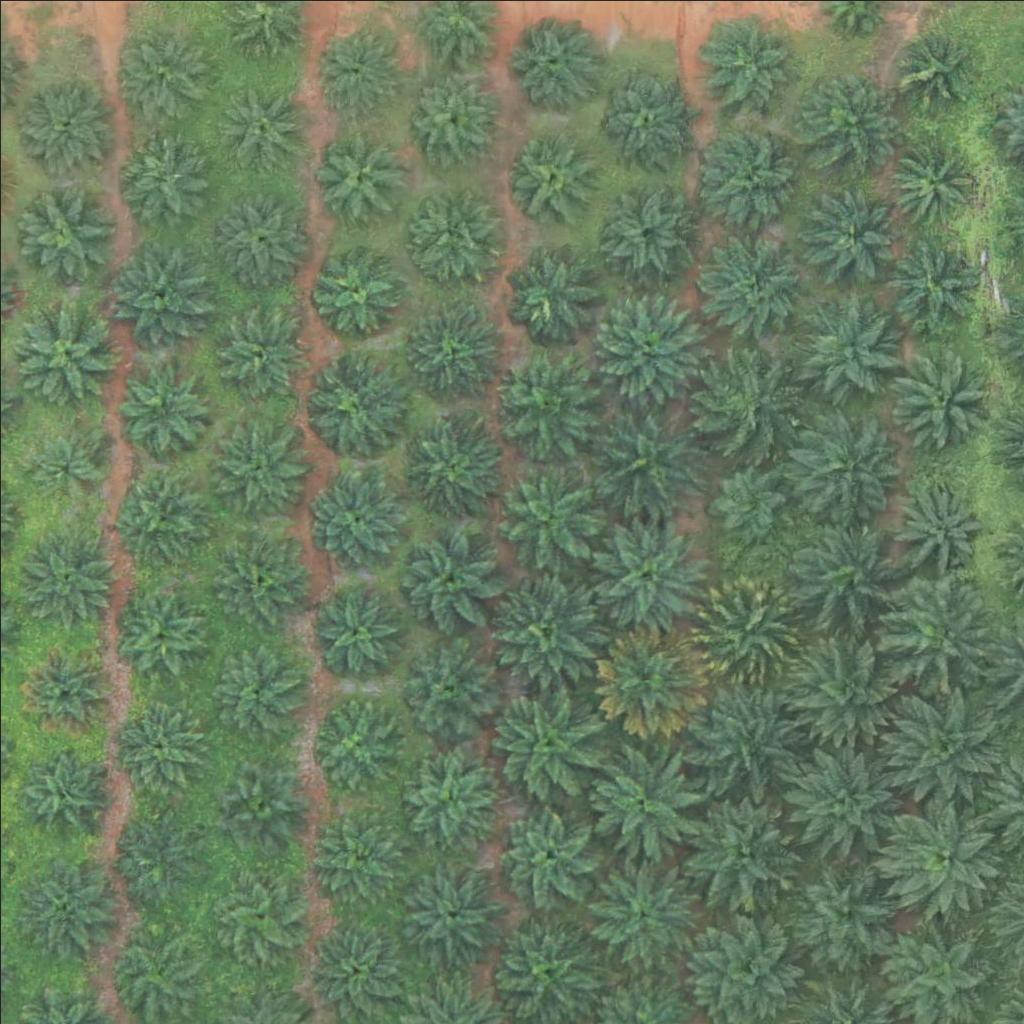Kelapa_Sawit: (591, 282, 704, 396), (784, 855, 897, 968), (681, 801, 794, 914), (682, 683, 795, 796), (390, 856, 503, 969), (489, 455, 602, 568), (593, 622, 706, 735), (691, 573, 804, 686), (591, 521, 704, 634), (594, 403, 707, 516), (885, 685, 997, 799), (791, 515, 903, 629), (787, 412, 899, 526), (882, 579, 994, 693), (886, 796, 998, 909), (783, 744, 895, 857), (585, 850, 697, 963), (588, 744, 700, 857), (485, 910, 597, 1023), (484, 686, 596, 799), (491, 573, 603, 686), (794, 629, 906, 742), (496, 802, 596, 903), (304, 807, 404, 908), (13, 851, 113, 952), (9, 300, 109, 401), (109, 580, 209, 681), (108, 464, 208, 565), (110, 240, 210, 341), (203, 644, 303, 745), (206, 527, 306, 628), (207, 418, 307, 519), (208, 301, 308, 402), (210, 185, 310, 286), (307, 467, 407, 568), (302, 354, 402, 455), (397, 636, 497, 737), (399, 527, 499, 628), (401, 411, 501, 512), (399, 301, 499, 402), (491, 357, 591, 458), (800, 296, 900, 397), (891, 347, 991, 448), (883, 235, 983, 336), (796, 68, 896, 169), (702, 123, 802, 224), (697, 13, 797, 114), (113, 27, 213, 128), (11, 179, 111, 280), (13, 75, 113, 176), (102, 806, 202, 906), (14, 527, 114, 627), (502, 246, 602, 346), (695, 353, 795, 453), (702, 232, 802, 332), (591, 65, 691, 165), (499, 14, 599, 114), (397, 68, 497, 168), (215, 876, 303, 964), (212, 757, 300, 845), (112, 701, 200, 789), (312, 243, 400, 331), (606, 185, 694, 273), (885, 135, 973, 223), (312, 130, 400, 218), (310, 24, 398, 112), (214, 84, 302, 172), (404, 751, 491, 839), (309, 927, 396, 1015), (17, 744, 104, 832), (21, 647, 108, 735), (118, 365, 205, 453), (313, 698, 400, 786), (310, 583, 397, 671), (407, 184, 494, 272), (806, 183, 893, 271), (894, 482, 981, 570), (504, 134, 591, 222), (111, 137, 198, 225), (27, 423, 102, 499), (711, 466, 786, 542), (891, 30, 966, 105)
